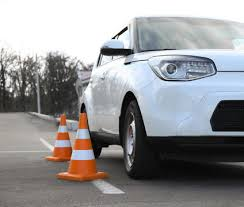car: (80, 17, 244, 180)
cone: (70, 112, 97, 183), (51, 114, 72, 159)
